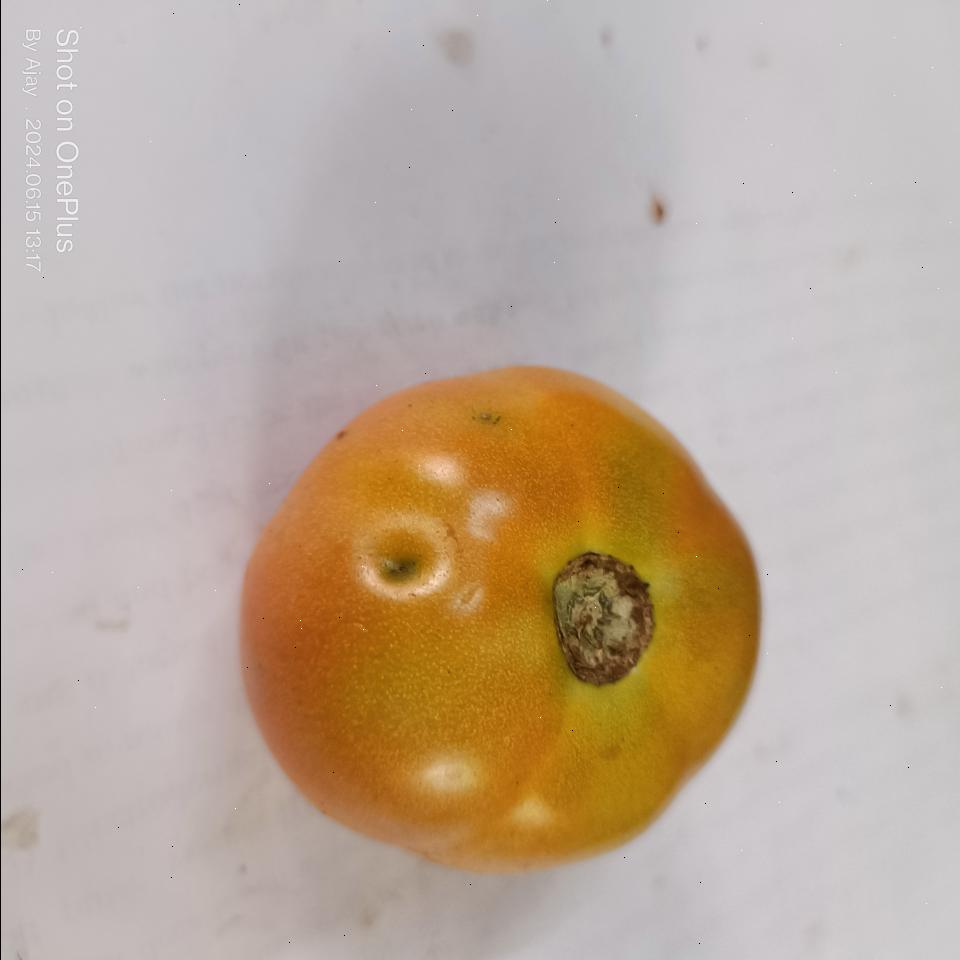Bacterial_Spot: (374, 542, 424, 595)
